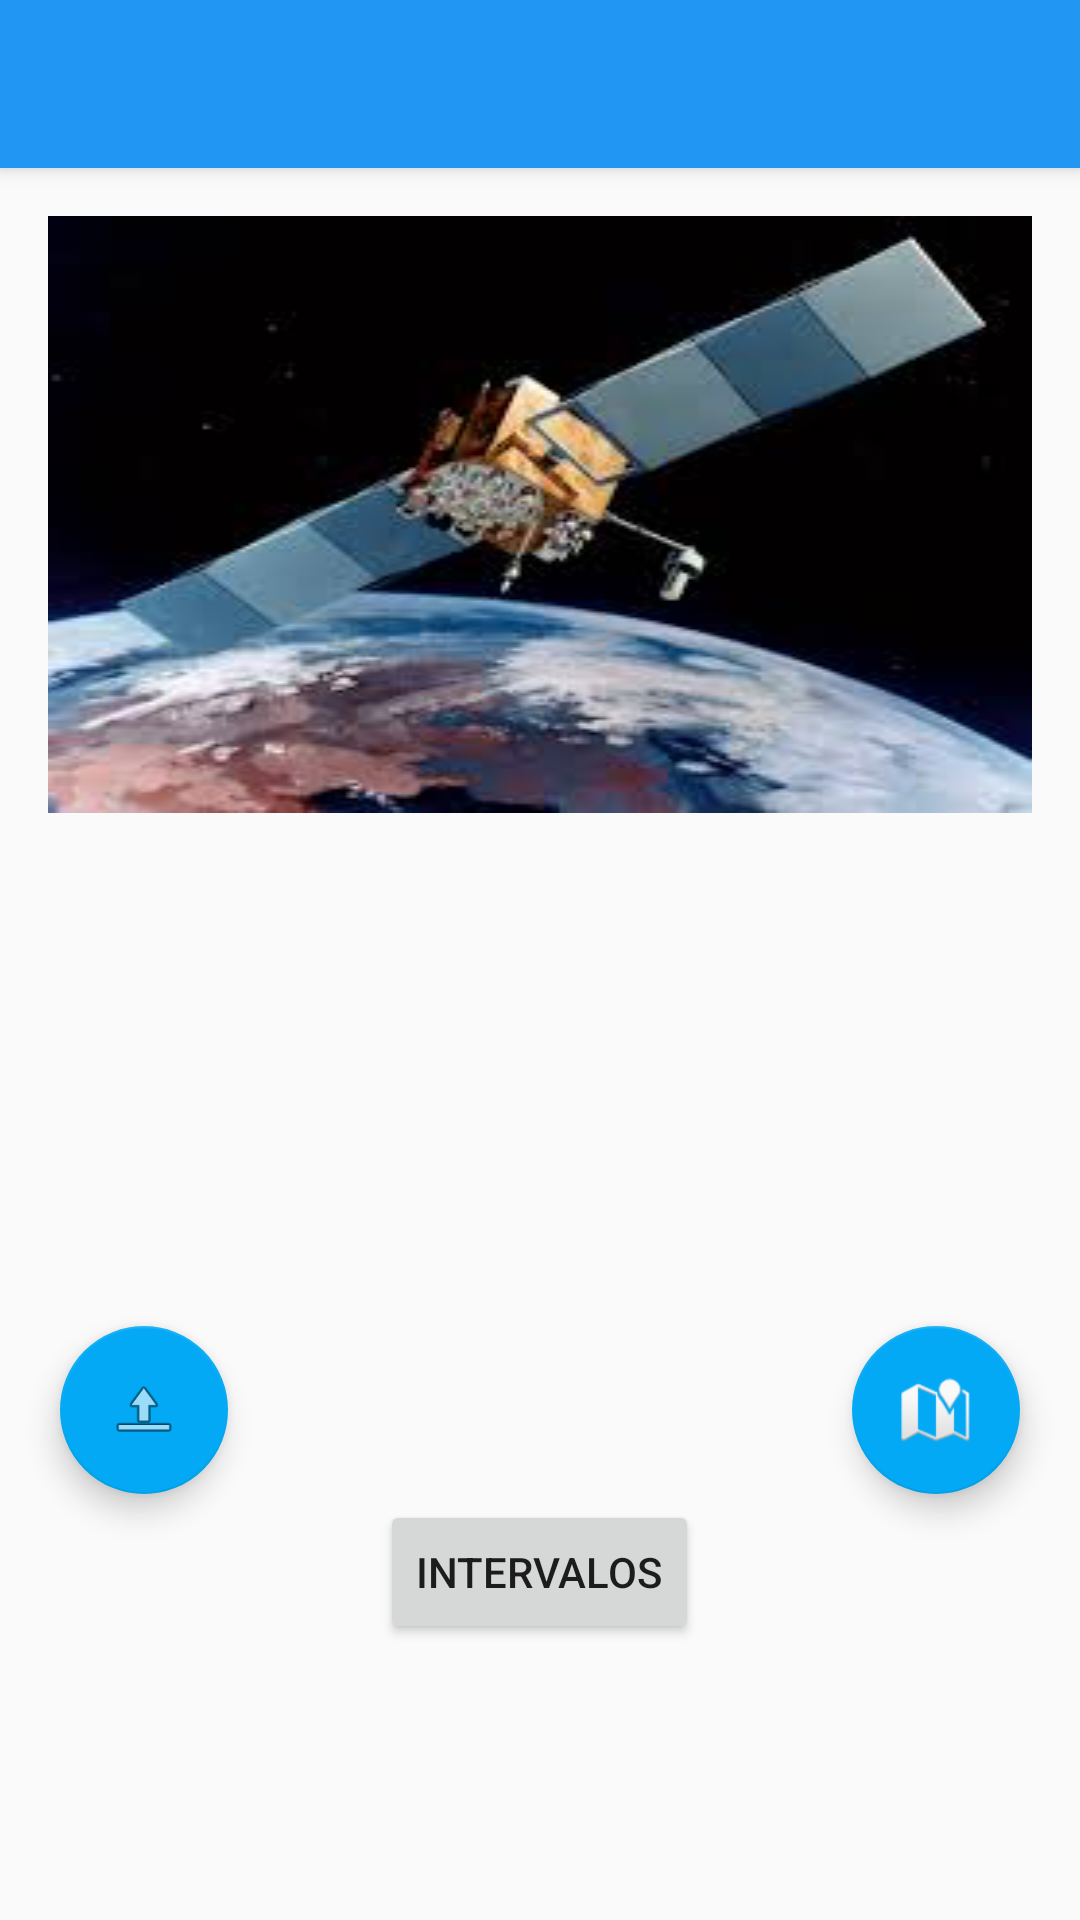

Icon bounding boxes for this 1080*1920 phone screenshot, format box=[x1, y1, x2, y2]:
map: box=[852, 1326, 1020, 1494]
upload you tube: box=[60, 1326, 228, 1494]
